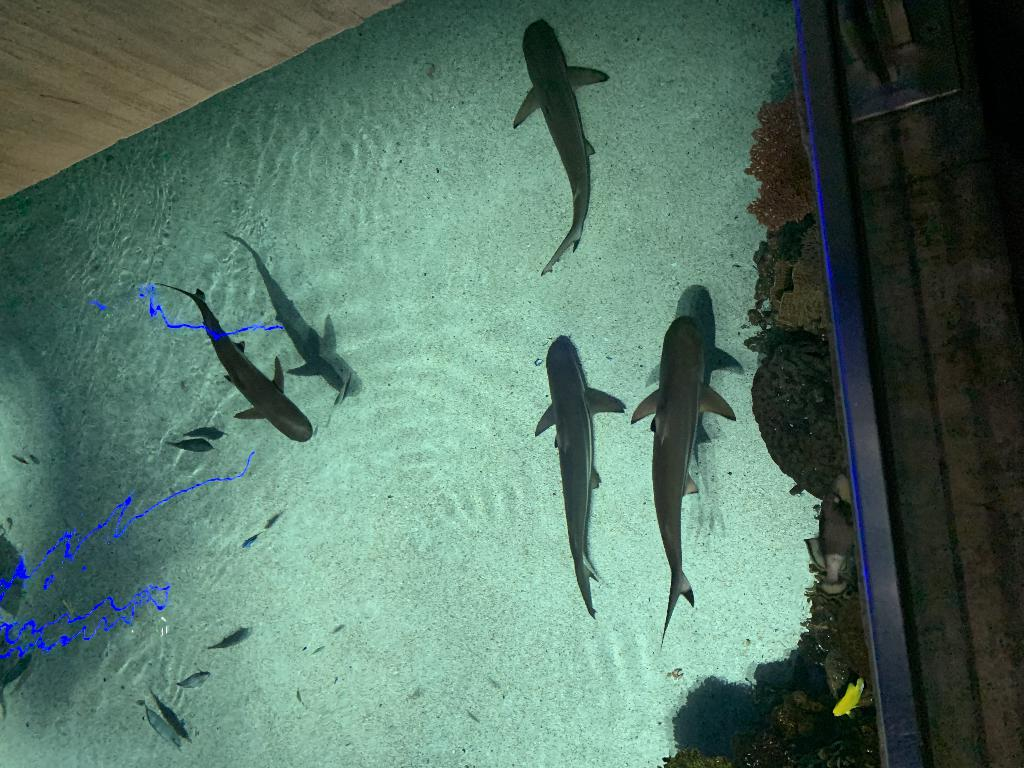fish: (134, 698, 184, 754), (830, 675, 866, 719), (170, 665, 212, 691), (204, 626, 248, 650), (163, 436, 215, 454), (240, 528, 264, 550), (11, 453, 29, 465)
shark: (626, 312, 738, 608), (508, 16, 612, 284), (532, 332, 628, 622), (149, 280, 313, 442)
